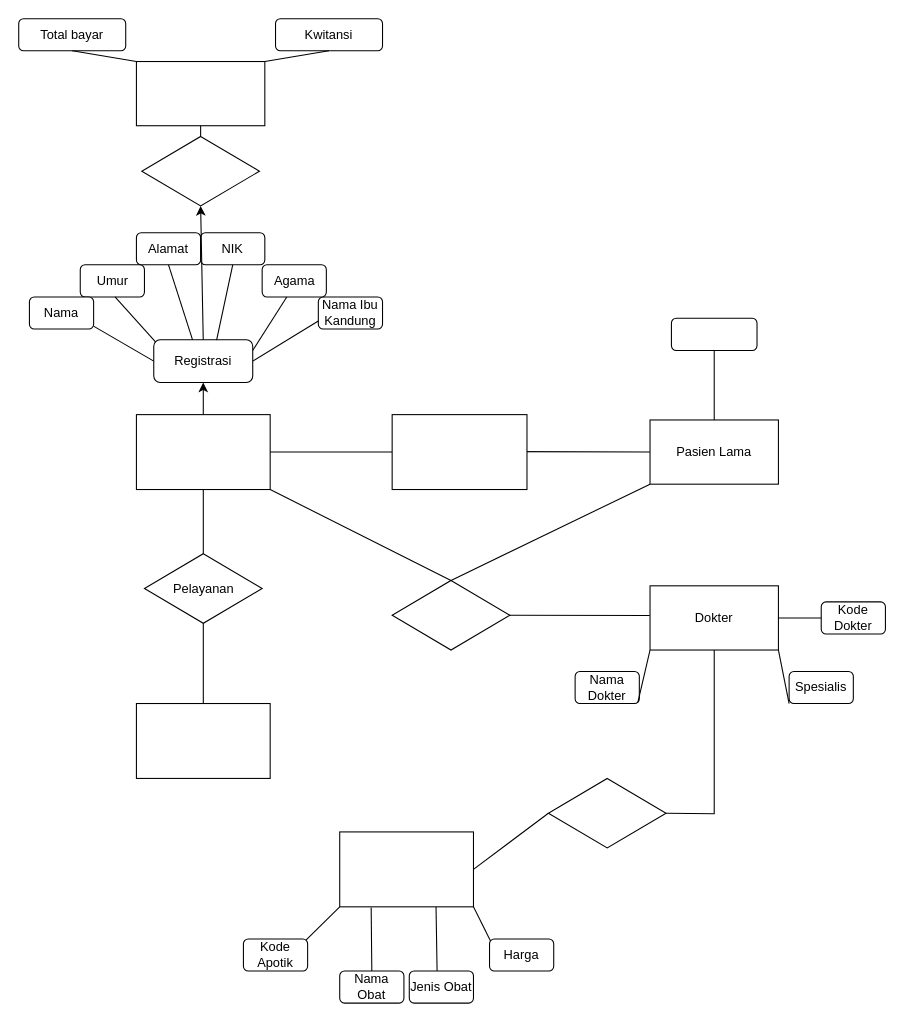
Image size: 904x1022. Some labels were removed from this diagram. The box of each missing label's shape, as (x1, y1, x2, y2) in pixels:
Apotik: (339, 831, 473, 907)
Kassa: (135, 60, 265, 126)
Klinik: (135, 702, 270, 778)
Membayar: (141, 135, 259, 206)
Pasien Baru: (135, 414, 270, 490)
Pasien Datang: (391, 414, 527, 490)
Pemeriksaan: (391, 579, 510, 650)
Resep: (547, 777, 666, 848)
Surat Kontrol: (670, 317, 757, 350)
